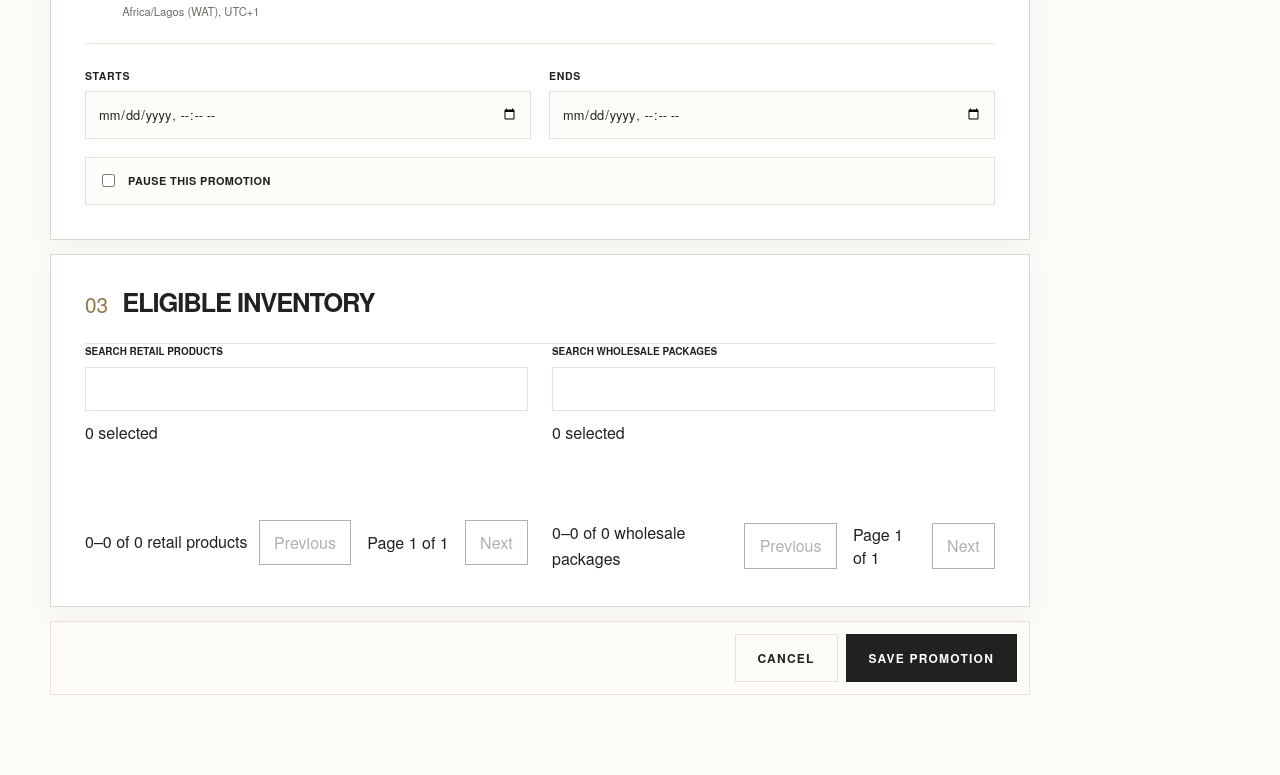
Scenario: searches the full eligible inventory through the server
(page scrolled)
Type "rare" into the field labelled "Search retail products" at (306, 389), box [85, 367, 528, 411]
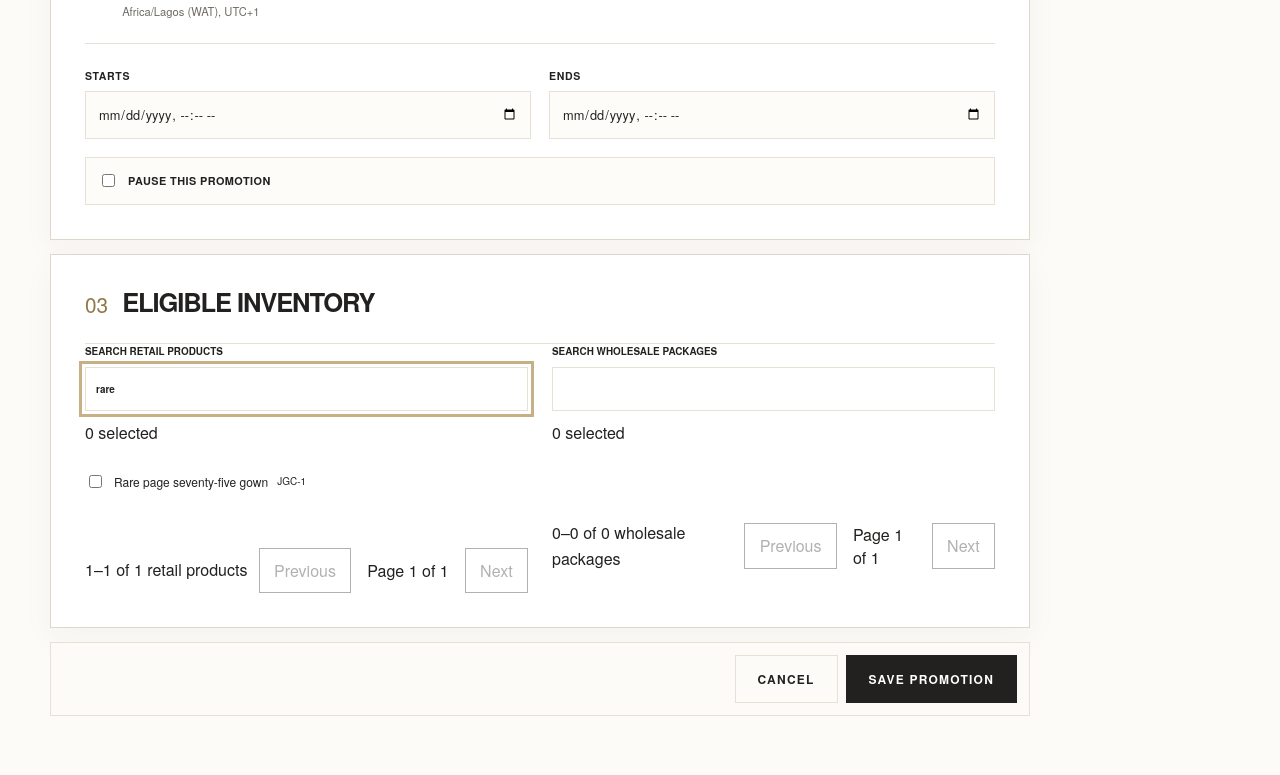
Expected: the checkbox labelled "Rare page seventy-five gown JGC-1" is shown, [89, 474, 102, 488]
